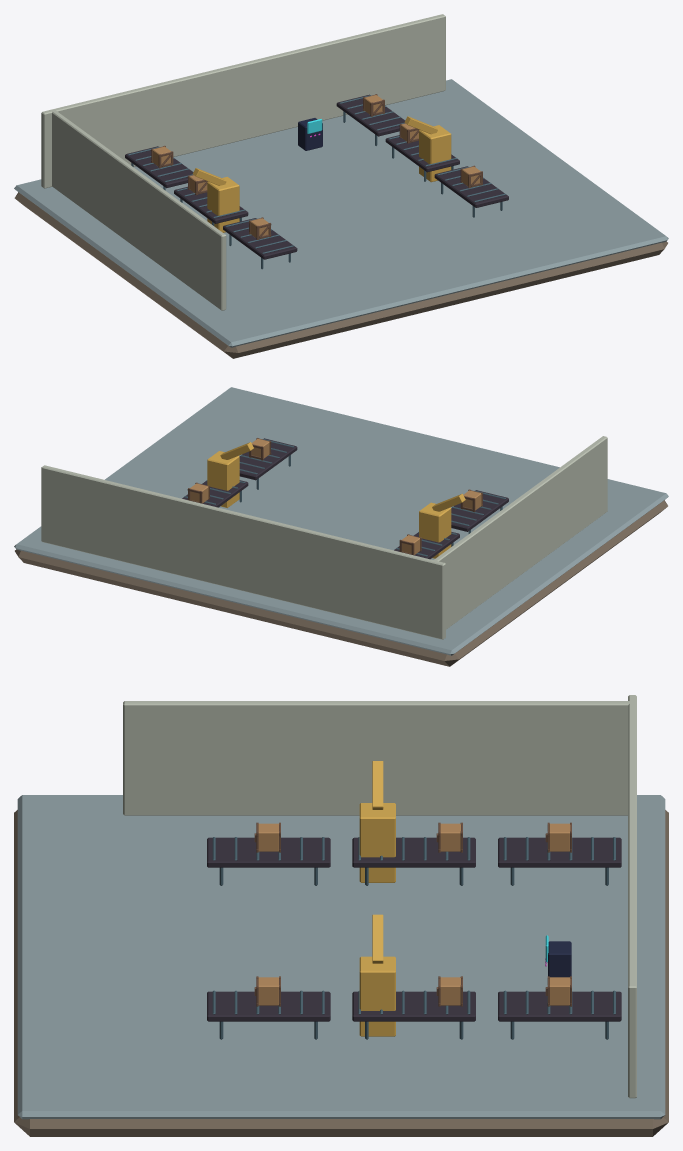
File: world-factory.glb
3 views of the same model, one above another, from view 1: azimuth 30°, elevation 25°; view 2: azimuth 150°, elevation 25°; view 3: azimuth 270°, elevation 25° (orthographic). The views are drawn at different scales.
Visible parts, largest first — view 1: terrain-top, rear-wall, side-wall, terrain-stratum, robot-base.001, conveyor-belt.004, conveyor-belt.001, robot-base, conveyor-belt.003, conveyor-belt.006, conveyor-belt.002, conveyor-belt.005 (+1 smaller); view 2: terrain-top, rear-wall, side-wall, terrain-stratum, robot-base.001, robot-base, conveyor-belt.004, conveyor-belt.001, conveyor-belt.005, conveyor-belt.002; view 3: terrain-top, side-wall, terrain-stratum, rear-wall, conveyor-belt.001, conveyor-belt.004, conveyor-belt.006, conveyor-belt.003, conveyor-belt.002, conveyor-belt.005, robot-base.001, robot-base (+1 smaller).
Boxes of the visible parts, bbox=[...] form: terrain-top: bbox=[14, 79, 668, 347]; rear-wall: bbox=[41, 14, 445, 188]; side-wall: bbox=[52, 110, 226, 310]; terrain-stratum: bbox=[14, 192, 667, 358]; robot-base.001: bbox=[419, 125, 451, 182]; conveyor-belt.004: bbox=[434, 166, 508, 207]; conveyor-belt.001: bbox=[223, 218, 297, 259]; robot-base: bbox=[207, 176, 239, 232]; conveyor-belt.003: bbox=[125, 146, 193, 188]; conveyor-belt.006: bbox=[336, 94, 405, 136]; conveyor-belt.002: bbox=[174, 186, 248, 223]; conveyor-belt.005: bbox=[385, 135, 459, 172]; terrain-top: bbox=[14, 387, 668, 655]; rear-wall: bbox=[41, 465, 445, 639]; side-wall: bbox=[433, 436, 607, 629]; terrain-stratum: bbox=[15, 500, 667, 666]; robot-base.001: bbox=[207, 451, 239, 507]; robot-base: bbox=[419, 502, 451, 558]; conveyor-belt.004: bbox=[239, 438, 297, 480]; conveyor-belt.001: bbox=[451, 490, 508, 531]; conveyor-belt.005: bbox=[182, 480, 248, 507]; conveyor-belt.002: bbox=[394, 532, 459, 559]; terrain-top: bbox=[17, 795, 665, 1119]; side-wall: bbox=[123, 701, 630, 815]; terrain-stratum: bbox=[14, 810, 668, 1136]; rear-wall: bbox=[628, 695, 636, 1098]; conveyor-belt.001: bbox=[207, 837, 330, 867]; conveyor-belt.004: bbox=[207, 991, 330, 1021]; conveyor-belt.006: bbox=[498, 991, 621, 1021]; conveyor-belt.003: bbox=[498, 837, 621, 867]; conveyor-belt.002: bbox=[352, 837, 475, 867]; conveyor-belt.005: bbox=[352, 991, 475, 1021]; robot-base.001: bbox=[359, 956, 395, 1036]; robot-base: bbox=[359, 803, 395, 882].
Bounding box in the file's own units: 21 × 4.29 × 18.
